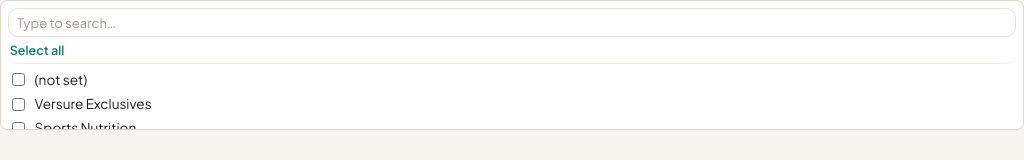
Test: MultiSelect › says so when nothing matches
The image size is (1024, 160).
Type "zzz" into the search field at (512, 23), box [8, 8, 1016, 37]
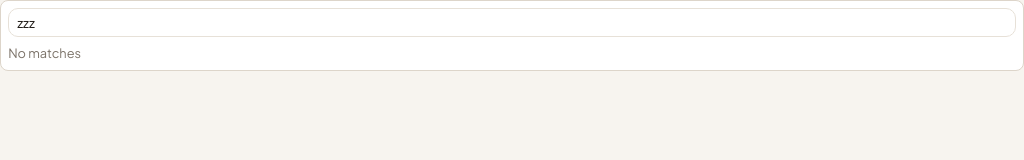
Expected: the text "No matches" is shown, [8, 45, 81, 61]
